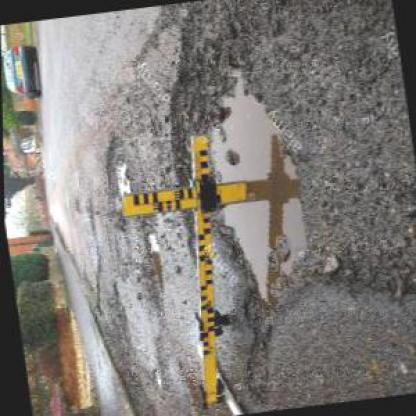pothole: (146, 0, 363, 333), (93, 134, 137, 232), (139, 226, 165, 301)
